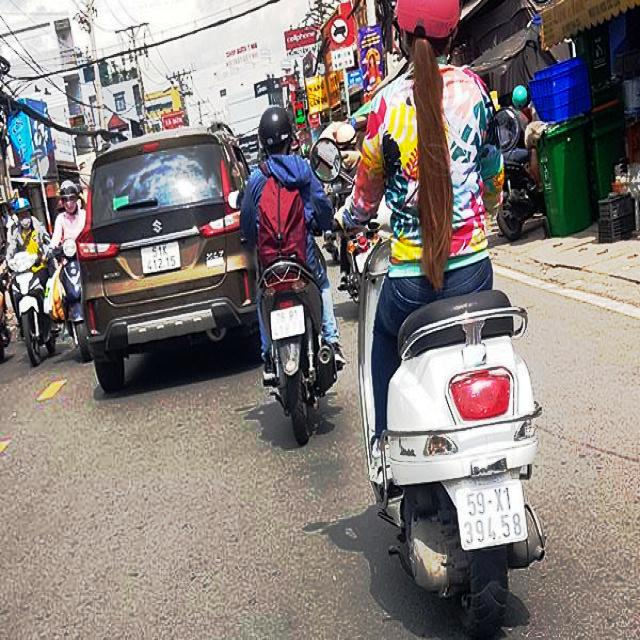license_plate: (457, 483, 528, 551), (141, 241, 181, 276)
